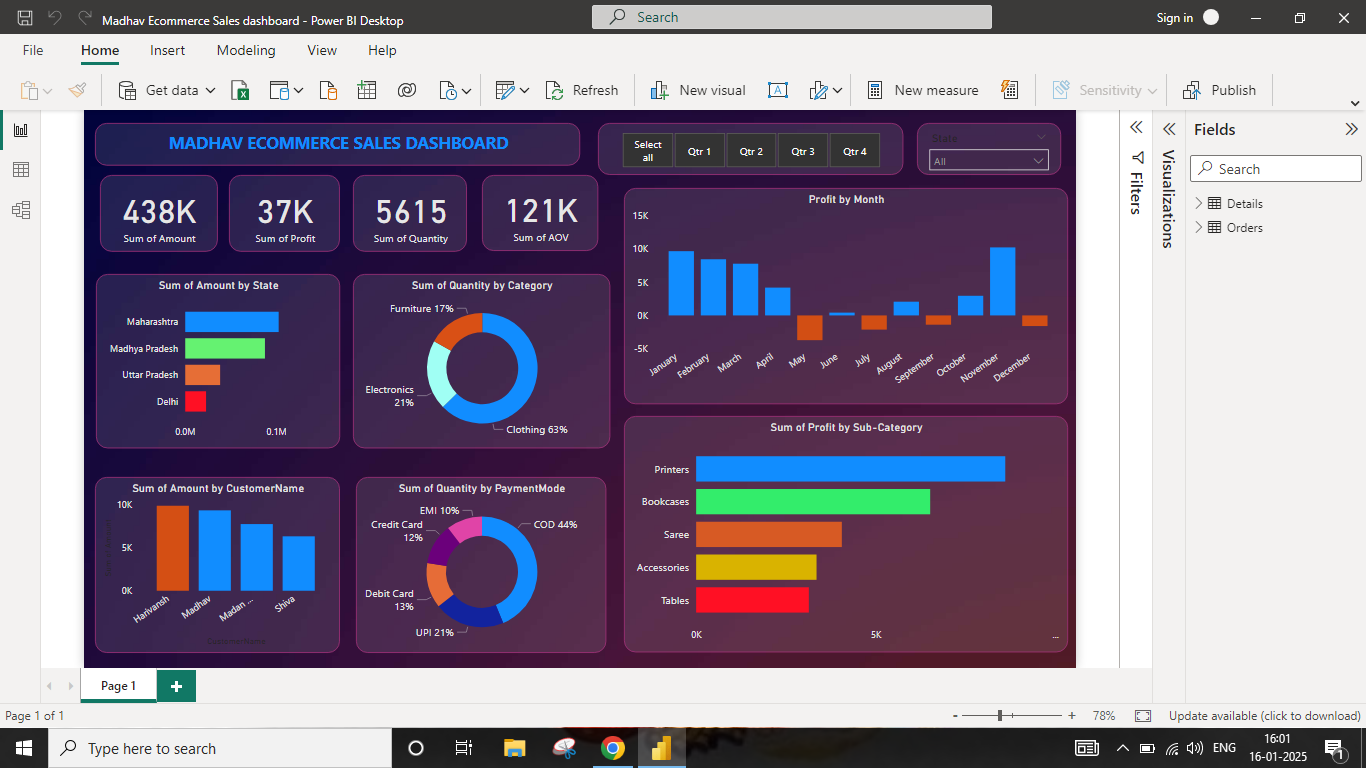

What the dashboard file says about the page in this screenshot:
{"tool":"powerbi","page":{"name":"Page 1","canvas":[1280,720],"ordinal":0},"visuals":[{"type":"textbox","box":[14.2,17,626.5,55.3],"z":0},{"type":"columnChart","title":"Profit by Month","fields":{"Y":["Details.Profit"],"Category":["Orders.Order Date.Variation.Date Hierarchy.Month"]},"box":[697.3,100.6,572.6,279.2],"z":1000},{"type":"barChart","fields":{"Category":["Details.Sub-Category"],"Y":["Details.Profit"]},"box":[697.3,395.4,572.6,304.7],"z":2000},{"type":"donutChart","fields":{"Category":["Details.Category"],"Y":["Details.Quantity"]},"box":[347.2,211.2,331.7,225.4],"z":3000},{"type":"donutChart","fields":{"Category":["Details.PaymentMode"],"Y":["Details.Quantity"]},"box":[351.5,473.4,323.1,226.8],"z":4000},{"type":"card","fields":{"Values":["Details.Amount"]},"box":[21.3,83.6,151.7,99.2],"z":5000},{"type":"card","fields":{"Values":["Details.Profit"]},"box":[187.1,83.6,143.1,99.2],"z":6000},{"type":"card","fields":{"Values":["Details.Quantity"]},"box":[347.2,83.6,147.4,99.2],"z":7000},{"type":"card","fields":{"Values":["Details.AOV"]},"box":[513.1,83.6,150.2,97.8],"z":8000},{"type":"barChart","fields":{"Y":["Details.Amount"],"Category":["Orders.State"]},"box":[15.6,211.2,314.6,225.4],"z":9000},{"type":"columnChart","fields":{"Category":["Orders.CustomerName"],"Y":["Details.Amount"]},"box":[14.2,473.4,316.1,226.8],"z":10000},{"type":"slicer","fields":{"Values":["Orders.Order Date.Variation.Date Hierarchy.Quarter"]},"box":[663.3,17,394,66.6],"z":11000},{"type":"slicer","fields":{"Values":["Orders.State"]},"box":[1074.3,17,185.7,66.6],"z":12000}]}

Visuals, with their boxes on the page's 1280x720 design canvas (x1, y1, x2, y2). These are canvas units, not pixel positions in the 1366x768 screenshot, which may show the page scaled, cropped or inside an application window:
textbox: 14:17:641:72
"Profit by Month" columnChart: 697:101:1270:380
barChart - Details.Sub-Category x Details.Profit: 697:395:1270:700
donutChart - Details.Category x Details.Quantity: 347:211:679:437
donutChart - Details.PaymentMode x Details.Quantity: 352:473:675:700
card - Details.Amount: 21:84:173:183
card - Details.Profit: 187:84:330:183
card - Details.Quantity: 347:84:495:183
card - Details.AOV: 513:84:663:181
barChart - Details.Amount x Orders.State: 16:211:330:437
columnChart - Orders.CustomerName x Details.Amount: 14:473:330:700
slicer - Orders.Order Date.Variation.Date Hierarchy.Quarter: 663:17:1057:84
slicer - Orders.State: 1074:17:1260:84
